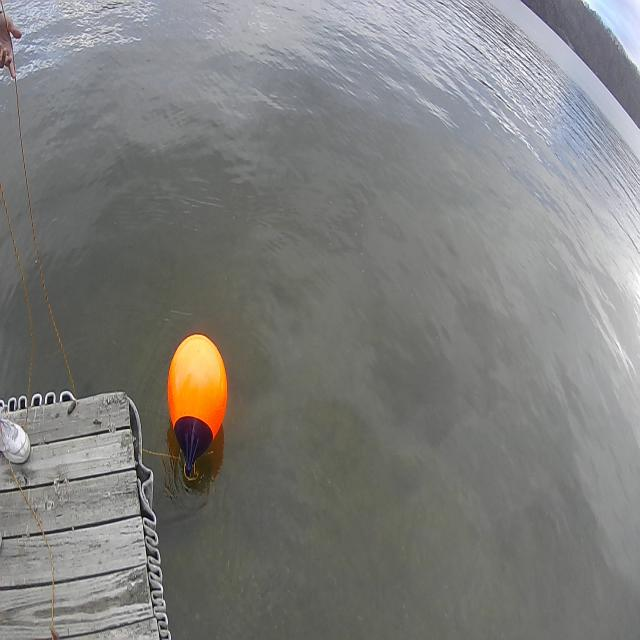Buoy: (167, 332, 229, 437)
